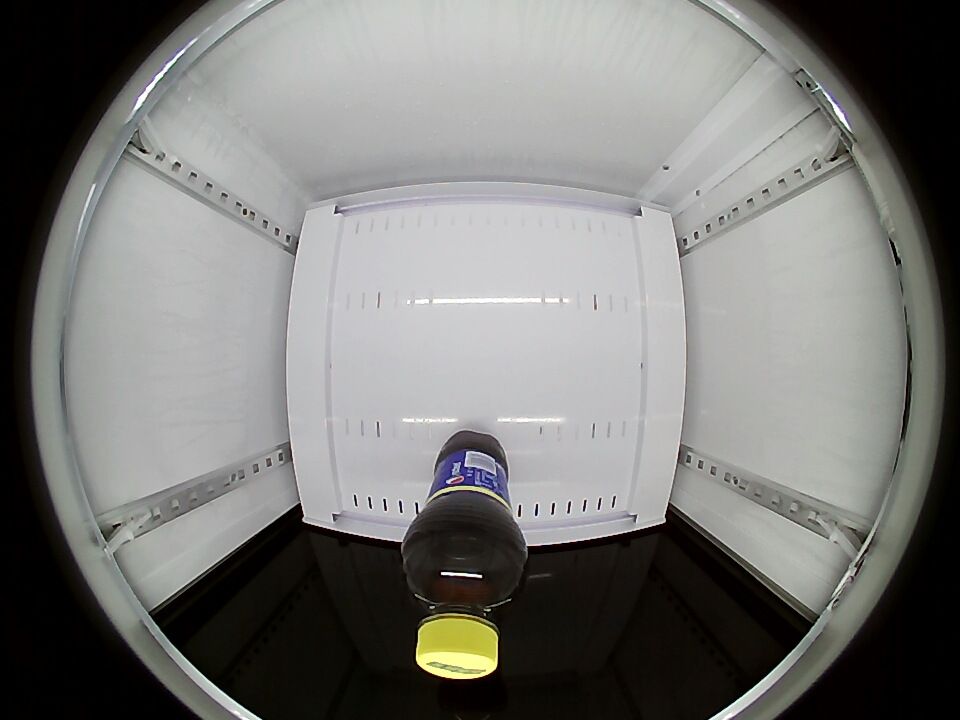baishikele: (403, 535, 525, 679)
